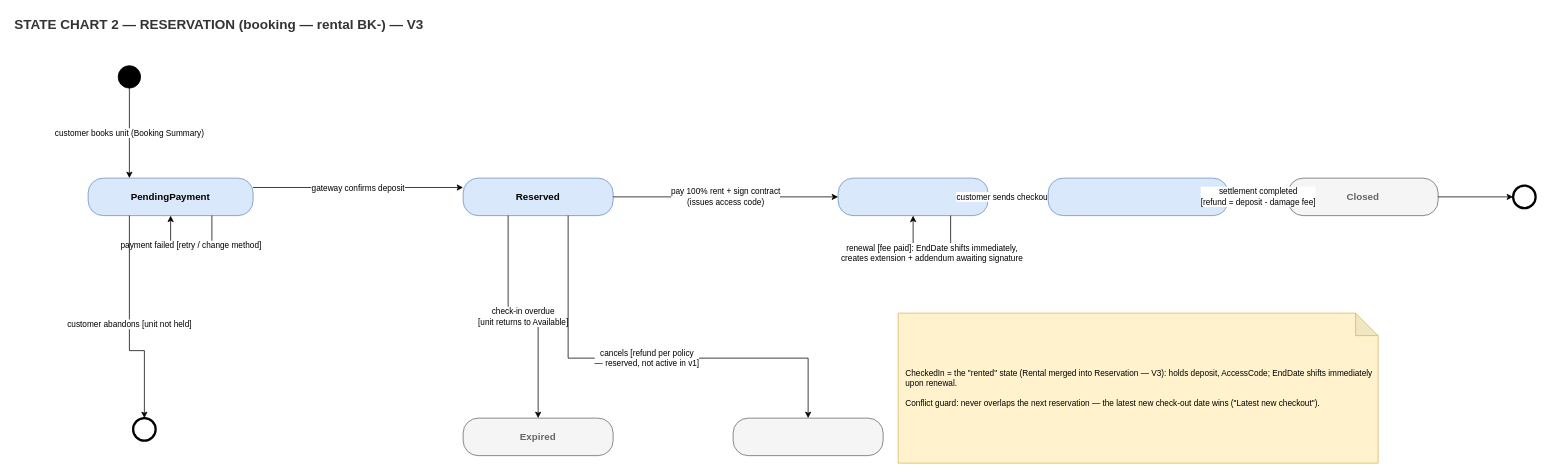
Image size: 1550x476. Some labels were removed from this diagram. The centre of each missing label's shape, as x and y in pixels:
"Cancelled" goes at pixel 807 436.
"CheckedIn" goes at pixel 912 196.
"CheckoutRequested" goes at pixel 1137 196.
